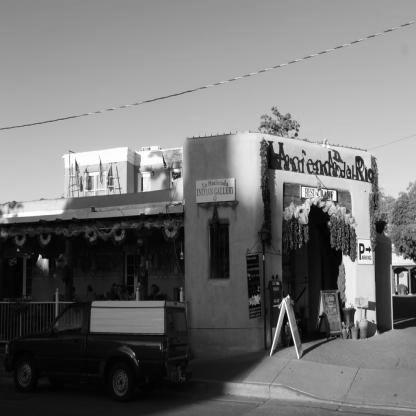truck: (13, 293, 210, 409)
